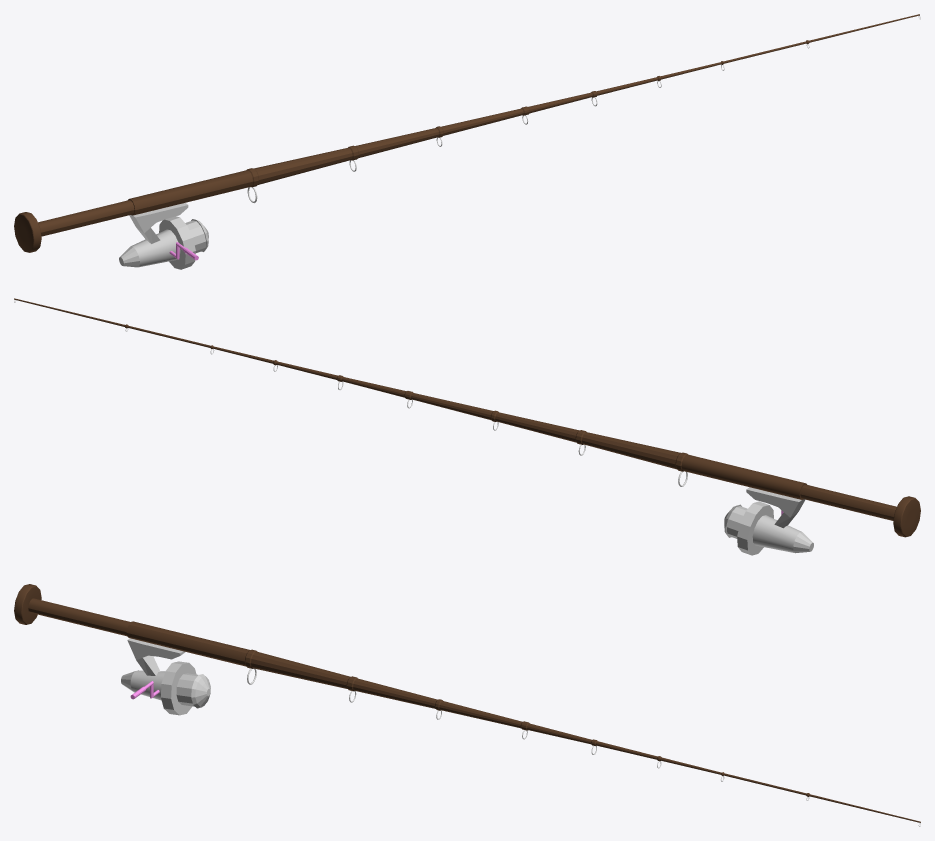
File: Varona.FBX
3 renders of one model, top to bottom at view 1: azimuth 30°, elevation 25°; view 2: azimuth 150°, elevation 25°; view 3: azimuth 330°, elevation 25°, orthographic.
Visible parts, largest first — view 1: Cylinder001, Box001; view 2: Cylinder001, Box001; view 3: Cylinder001, Box001.
Part boxes in pixels (x1,y1,x2,y2): Cylinder001: (14, 14, 919, 252); Box001: (119, 203, 208, 269); Cylinder001: (14, 298, 920, 537); Box001: (724, 487, 813, 555); Cylinder001: (14, 584, 920, 822); Box001: (121, 638, 210, 715).
Size of the model in its own units: 61.26 by 5.94 by 5.49.
